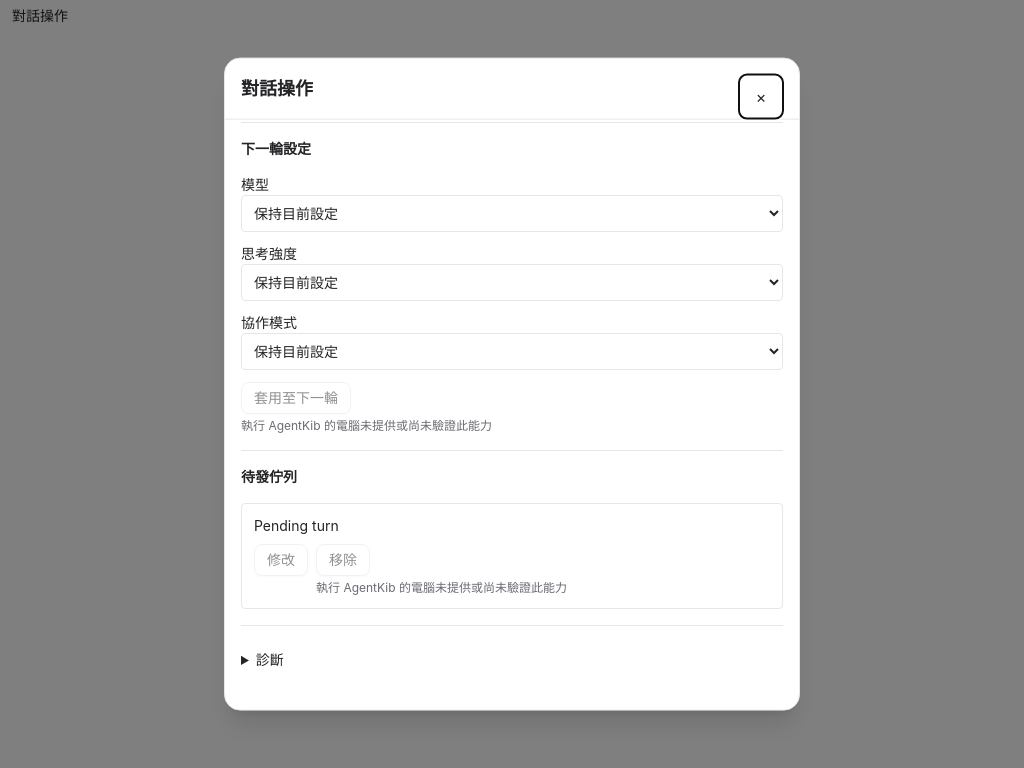
keeps Codex operations focused on session management and automatic queues in zh-TW
This screenshot has width=1024, height=768.
(page scrolled)
Expected: the text "Pending turn" is shown, [254,517,339,534]
Expected: the heading "待發佇列" is shown, [241,468,297,485]
Click the heading "診斷": (270, 659) [256,651,284,668]
(page scrolled)
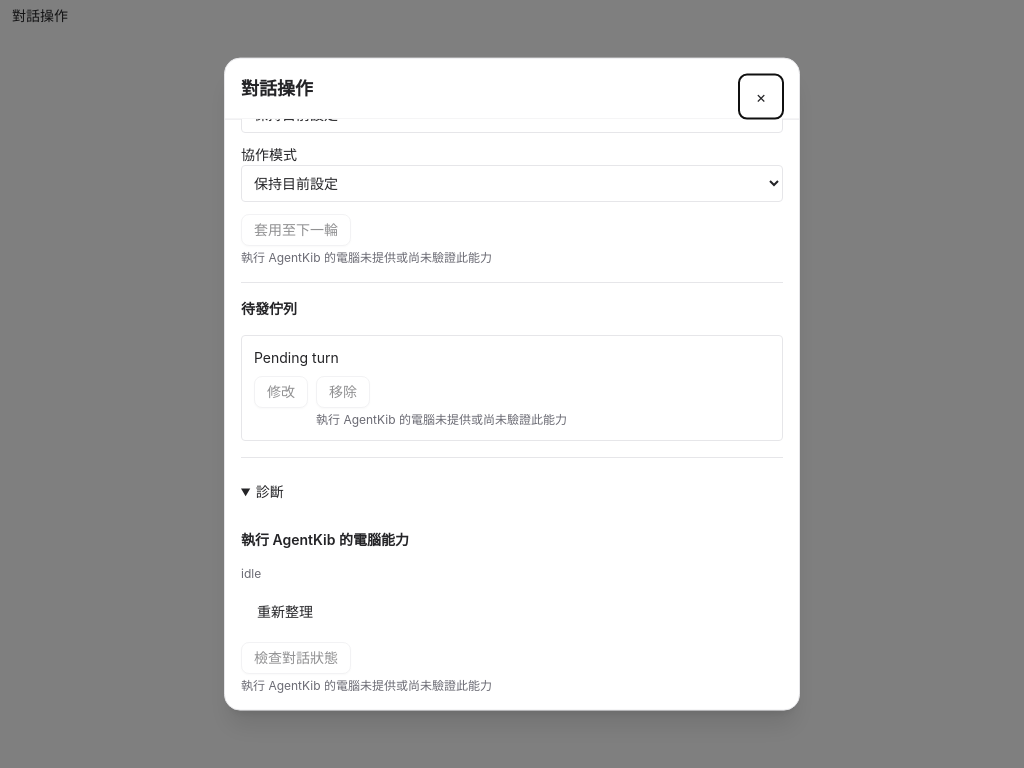
Expected: the button "檢查對話狀態" is shown, [241,642,351,674]
